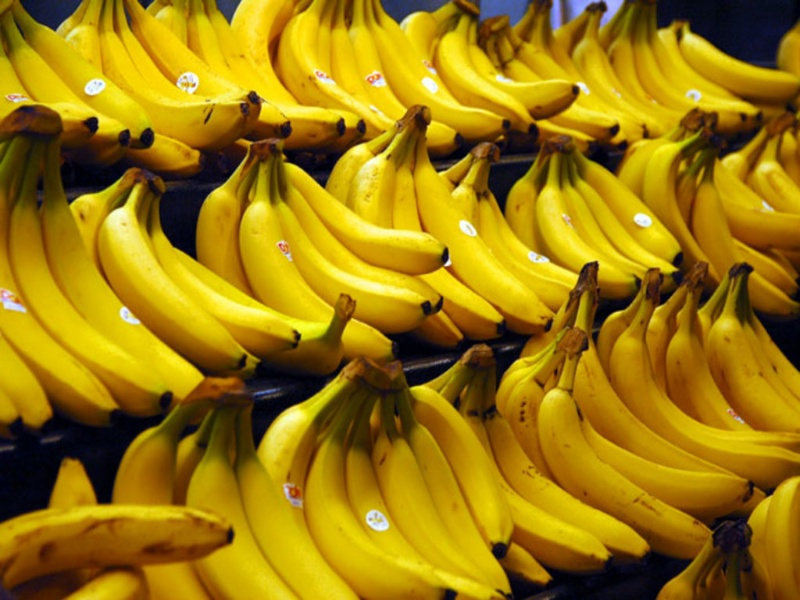banana: (260, 363, 520, 599), (193, 139, 446, 361), (4, 494, 243, 580)
